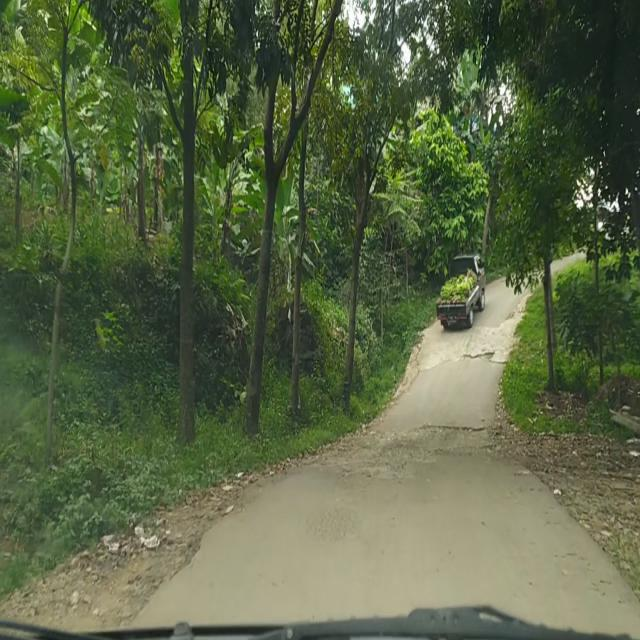Drain Hole: (304, 503, 364, 547)
